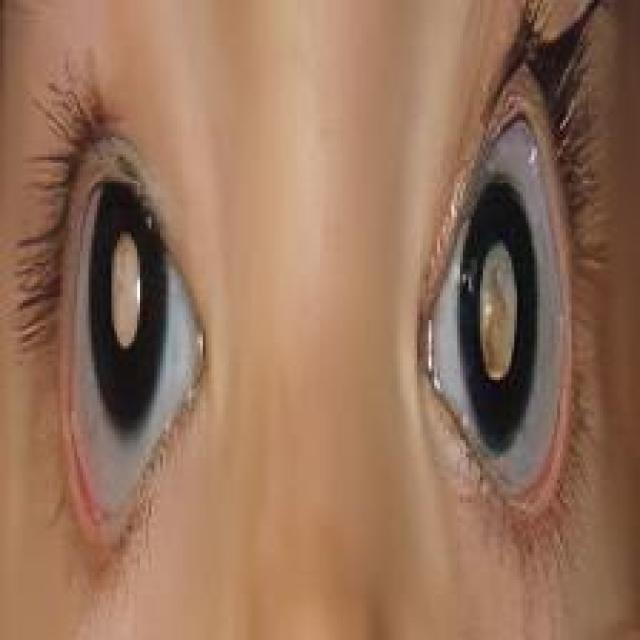reflexo-alterado: (386, 159, 583, 526), (27, 118, 225, 456)
